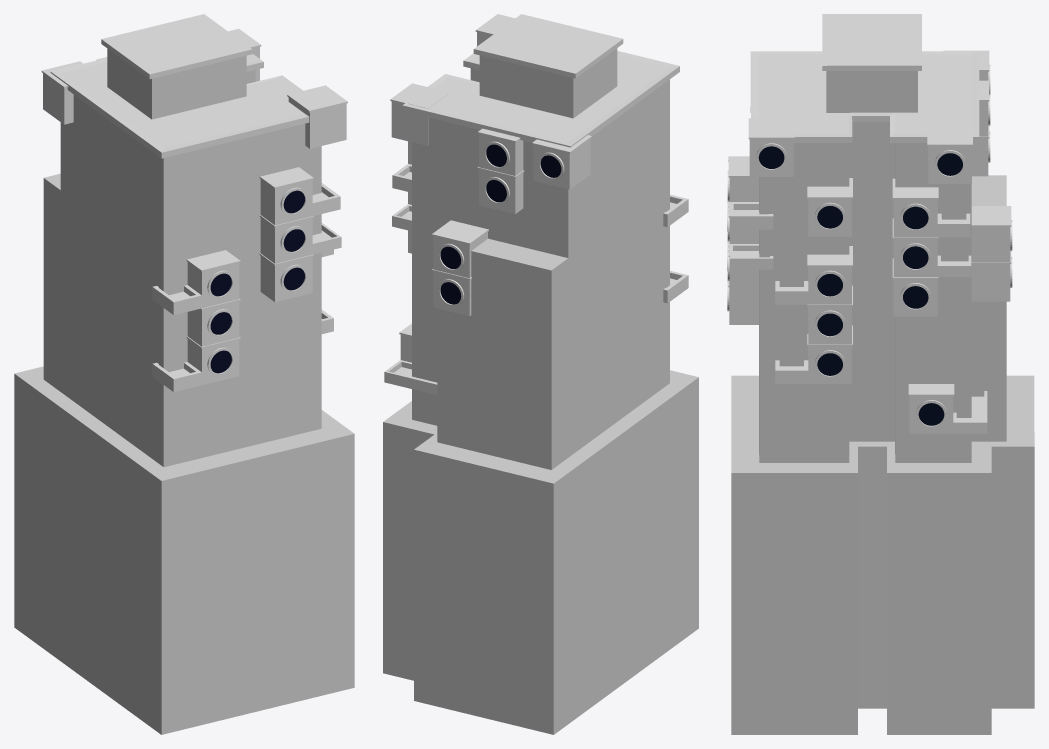
Rendered from Building06.fbx.
The picture shows the model from 3 angles, left to right: view 1: azimuth 30°, elevation 25°; view 2: azimuth 150°, elevation 25°; view 3: azimuth 270°, elevation 25°; orthographic projection. The views are drawn at different scales.
Parts seen in each view (by area): view 1: 06; view 2: 06; view 3: 06.
Part boxes in pixels (x1,y1,x2,y2): 06: (14,14,354,734); 06: (383,14,698,734); 06: (727,14,1034,734).
Size of the model in its own units: 748 by 2262 by 984.
